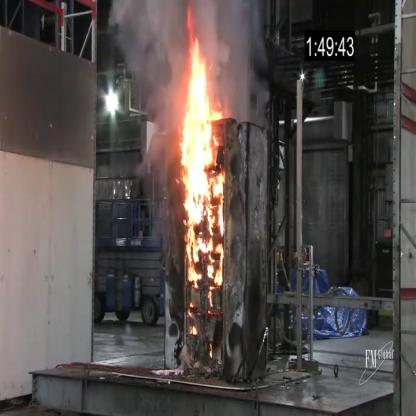fire: (178, 6, 228, 311), (190, 324, 198, 338)
